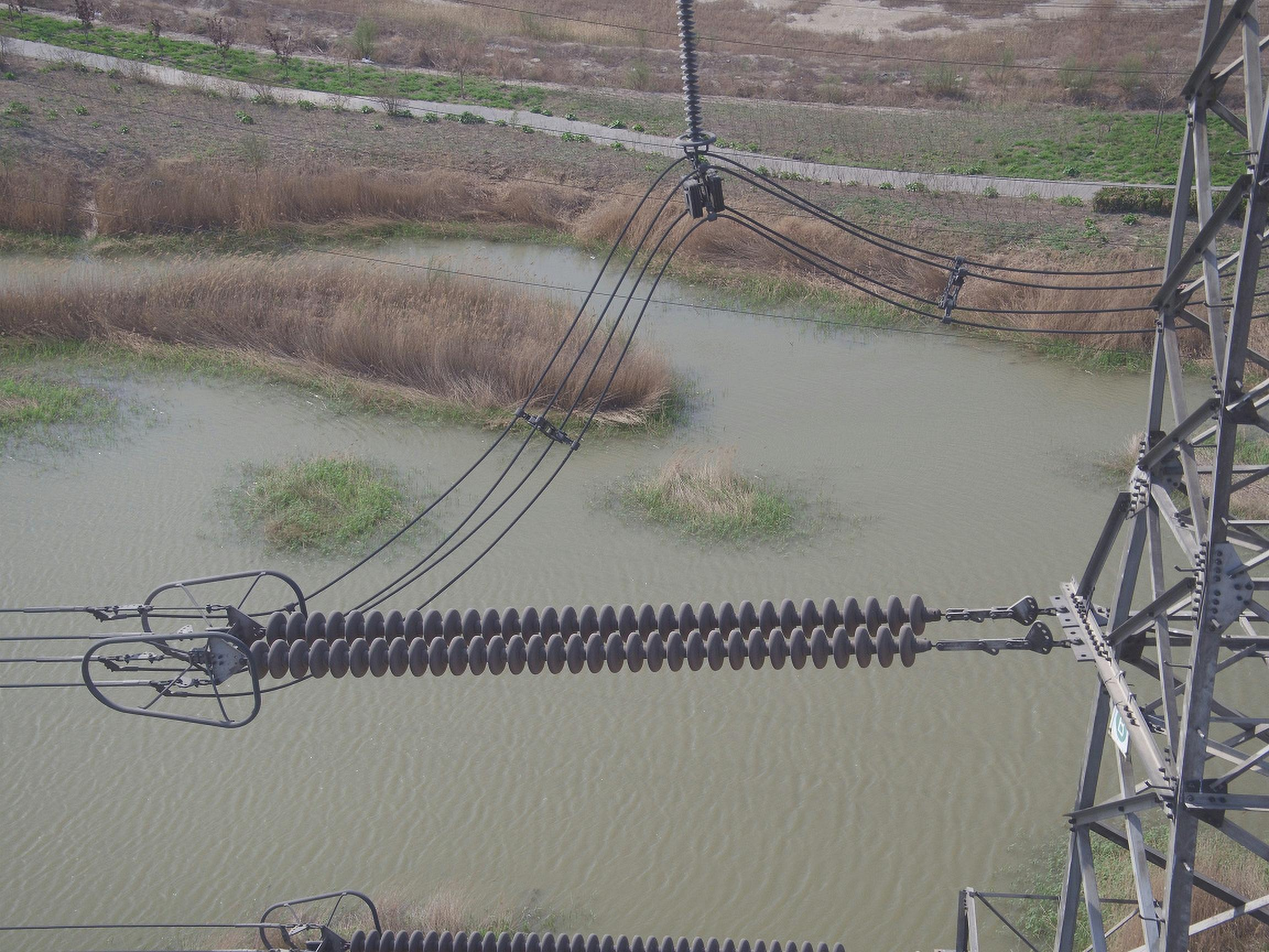insulator: (243, 591, 928, 684), (344, 923, 849, 952), (672, 1, 707, 139)
